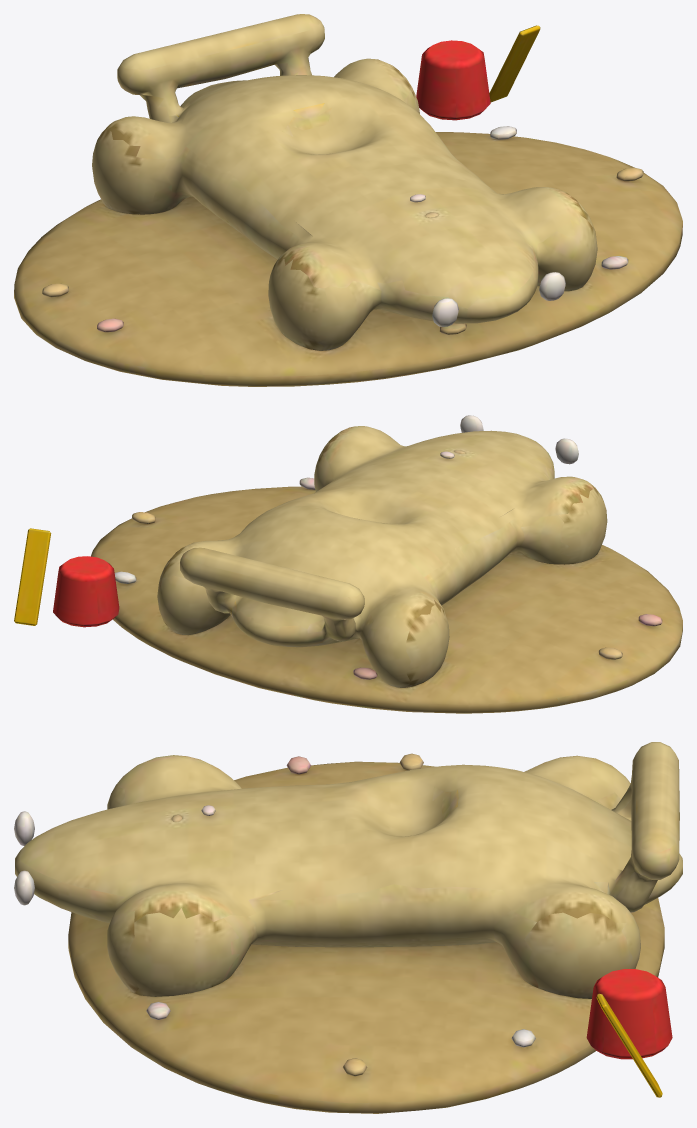
File: sand_car.glb
3 views of the same model, one above another, from view 1: azimuth 30°, elevation 25°; view 2: azimuth 150°, elevation 25°; view 3: azimuth 270°, elevation 25° (orthographic). The views are drawn at different scales.
Parts seen in each view (by area): view 1: sand_car; view 2: sand_car; view 3: sand_car.
Boxes of the visible parts, x1=… form: sand_car: x1=14, y1=14, x2=682, y2=386; sand_car: x1=14, y1=415, x2=682, y2=713; sand_car: x1=14, y1=742, x2=682, y2=1113.
Bounding box in the file's own units: 0.9192 × 0.2367 × 0.7629.
1 material, 1 textured.
